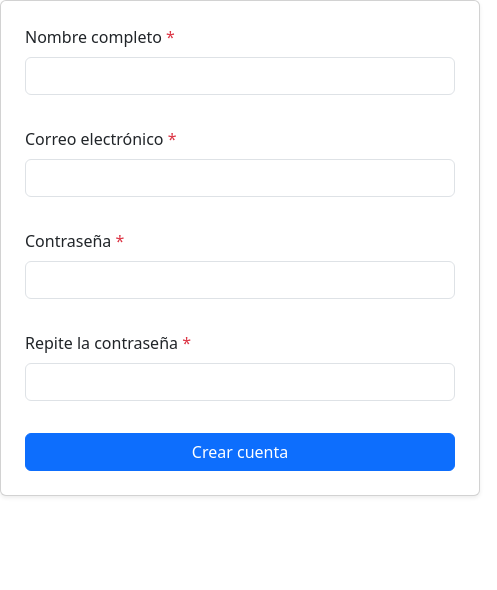
it: FormularioRegistro › muestra un error si las contraseñas no coinciden
Type "password123" into the password field labelled "Contraseña *".
click(240, 280); type("password123")  # box [25,261,455,299]
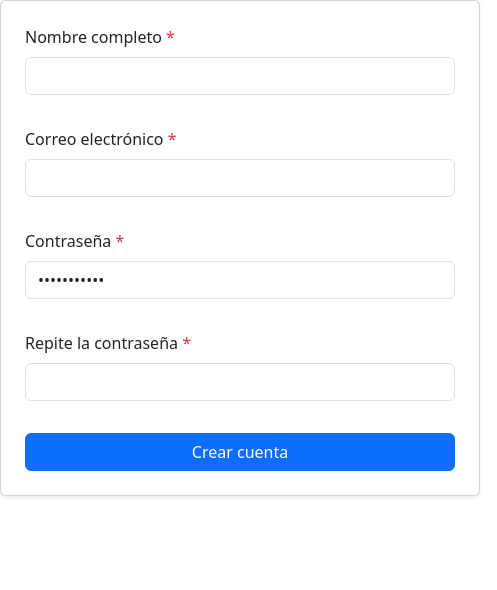
Type "password456" into the password field labelled "Repite la contraseña *".
click(240, 382); type("password456")  # box [25,363,455,401]
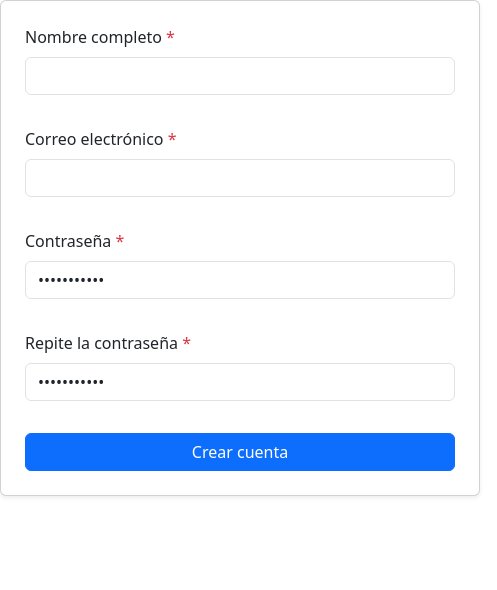
Click the button "Crear cuenta".
click(240, 452)  # box [25,433,455,471]
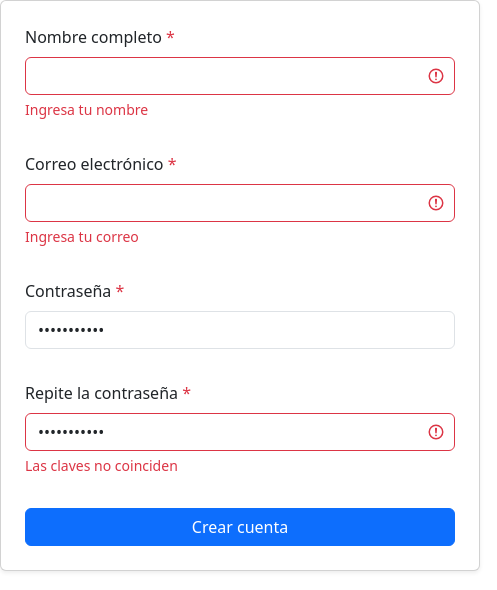
Now the text "Las claves no coinciden" is shown, box [25,456,178,475]
